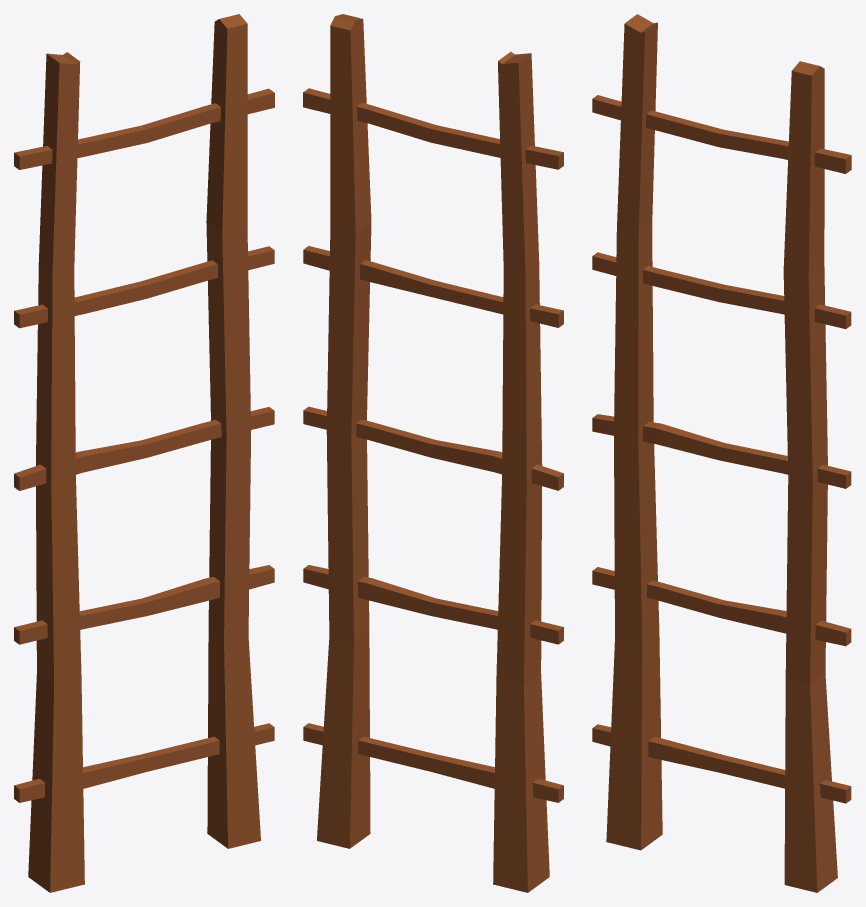
File: Ladder1.fbx
3 views of the same model, side by side, from view 1: azimuth 30°, elevation 25°; view 2: azimuth 150°, elevation 25°; view 3: azimuth 330°, elevation 25° (orthographic).
Visible parts, largest first — view 1: Ladder1; view 2: Ladder1; view 3: Ladder1.
Boxes of the visible parts, x1,y1,x2,y2 form: Ladder1: (14,14,274,892); Ladder1: (303,14,563,892); Ladder1: (592,14,851,892).
Size of the model in its own units: 64.85 by 200 by 9.62.
